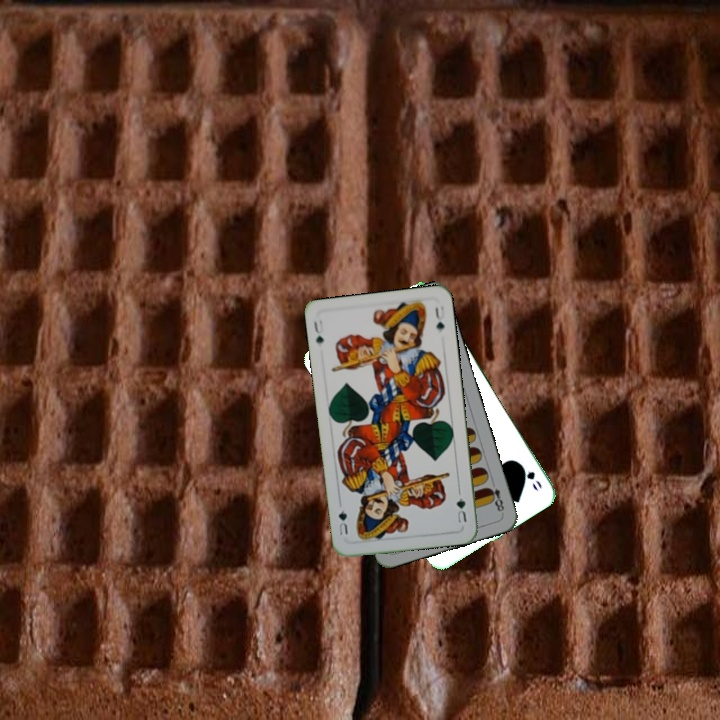E8: (484, 476, 507, 516)
GO: (514, 458, 545, 494)
GU: (452, 487, 469, 526), (309, 315, 326, 347)
